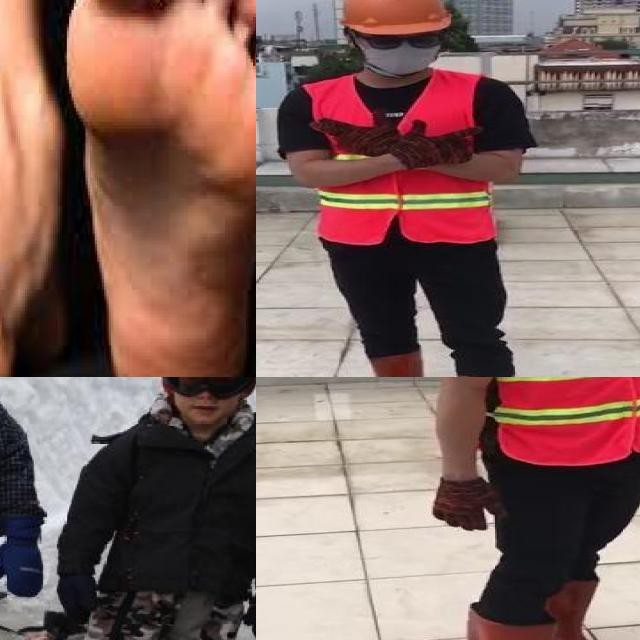Barefoots: (56, 0, 256, 377), (0, 111, 79, 377)
boots: (539, 578, 630, 640), (463, 606, 610, 640), (354, 352, 431, 377)
face_mask: (352, 30, 447, 76)
face_nomask: (180, 377, 236, 418)
glasses: (159, 377, 256, 401), (351, 29, 450, 52)
hand_glove: (401, 115, 478, 168), (431, 480, 507, 531), (310, 113, 398, 156), (0, 535, 48, 599)
head_helmet: (333, 0, 458, 36)
person: (274, 0, 562, 377), (423, 377, 640, 640), (50, 377, 256, 640)
vest: (296, 71, 499, 246), (493, 377, 640, 464)
